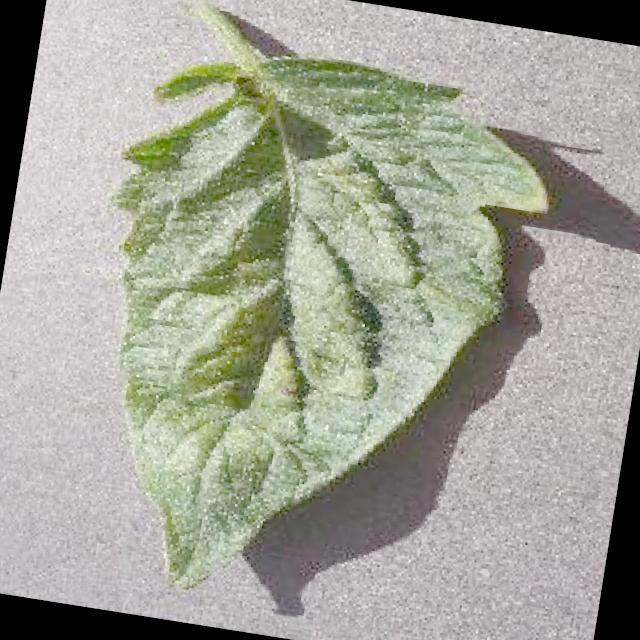Tomato spider mites leaf: (50, 26, 568, 640)
